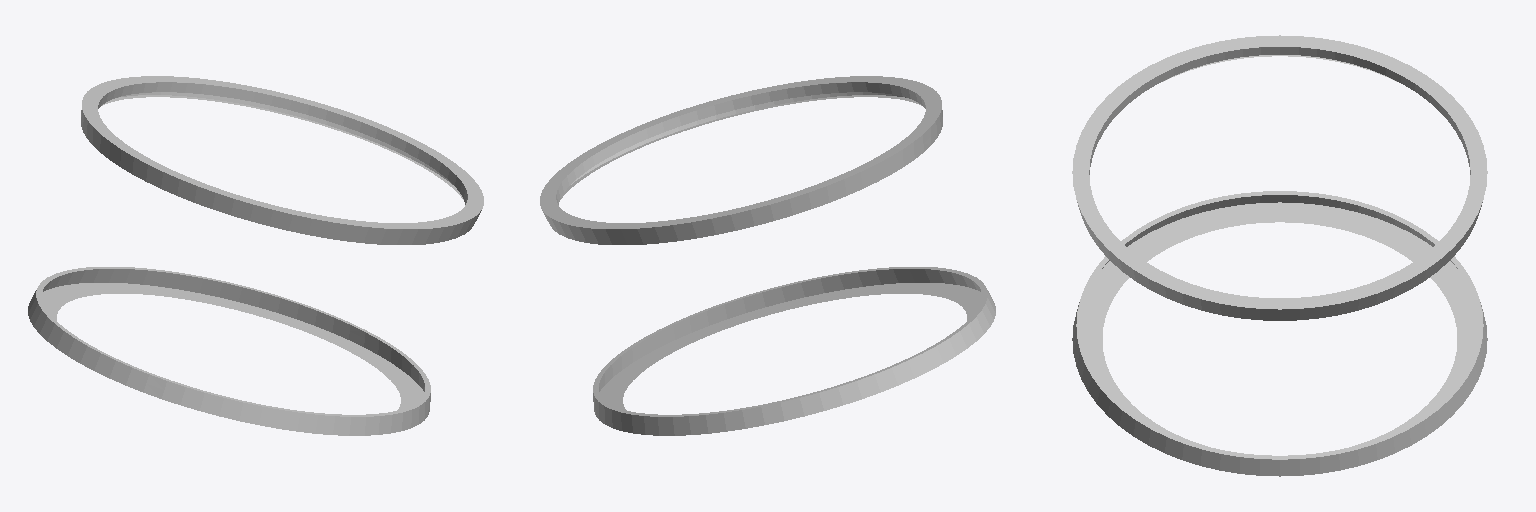
Rendered from drumsetV4_DrumRings001.obj.
3 views of the same model, side by side, from view 1: azimuth 30°, elevation 25°; view 2: azimuth 150°, elevation 25°; view 3: azimuth 270°, elevation 25° (orthographic).
Visible parts, largest first — view 1: drumsetV4_DrumRings001_Cylinder.039; view 2: drumsetV4_DrumRings001_Cylinder.039; view 3: drumsetV4_DrumRings001_Cylinder.039.
Part boxes in pixels (x1,y1,x2,y2): drumsetV4_DrumRings001_Cylinder.039: (28,76,483,435); drumsetV4_DrumRings001_Cylinder.039: (540,76,995,435); drumsetV4_DrumRings001_Cylinder.039: (1072,35,1487,476).
Bounding box in the file's own units: 1.18 × 0.8473 × 1.07.